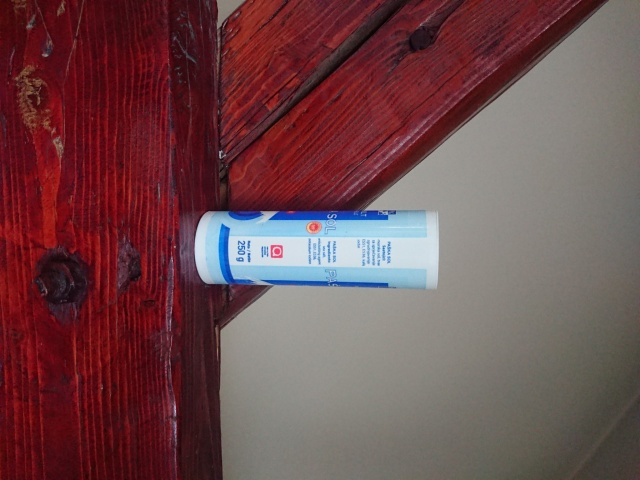Solana Pag Fine Sea Salt 250g: (190, 206, 443, 292)
